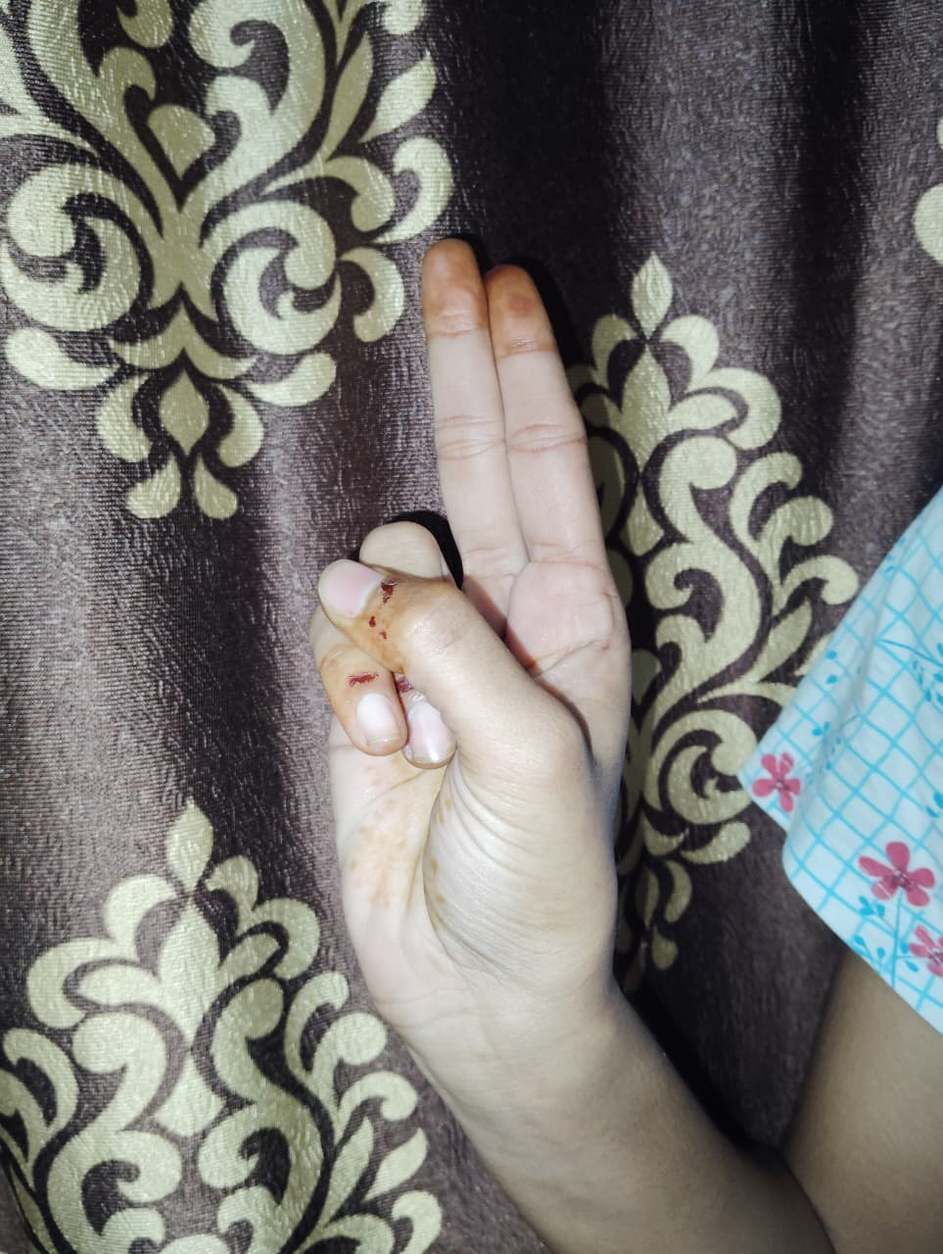U: (306, 239, 628, 997)
